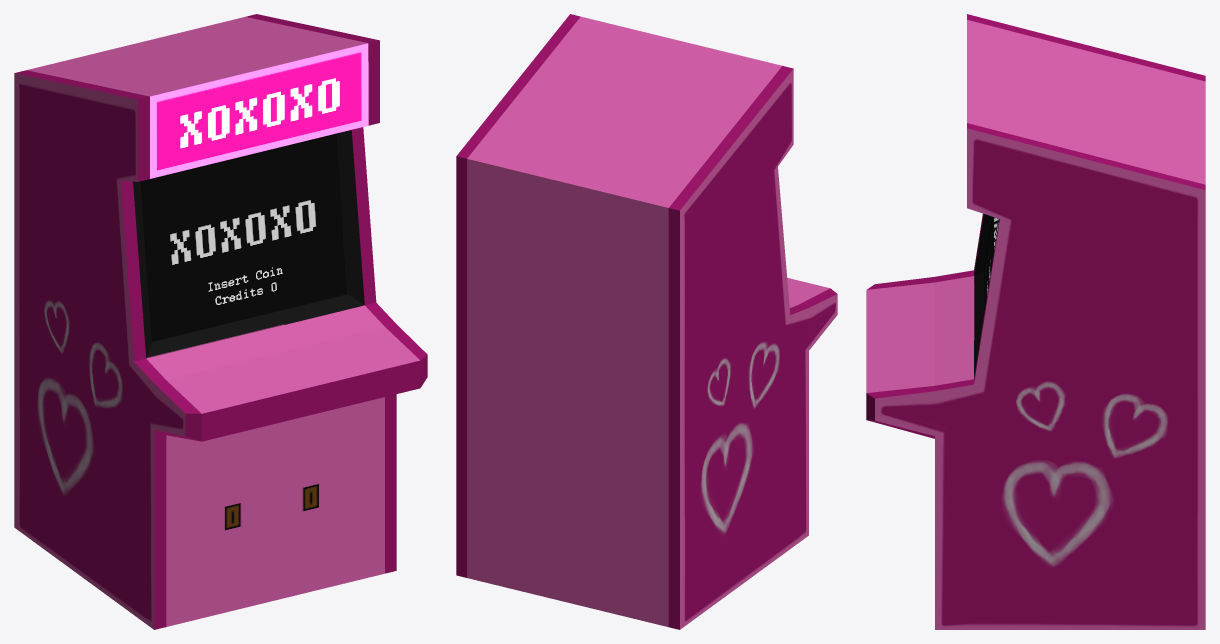
The model's file is cab_xoxoxo.glb.
3 views of the same model, side by side, from view 1: azimuth 30°, elevation 25°; view 2: azimuth 150°, elevation 25°; view 3: azimuth 270°, elevation 25° (orthographic). The views are drawn at different scales.
Visible parts, largest first — view 1: cabinet; view 2: cabinet; view 3: cabinet.
Boxes of the visible parts, left/top/right/bottom form: cabinet: left=14, top=14, right=427, bottom=629; cabinet: left=456, top=14, right=837, bottom=629; cabinet: left=866, top=14, right=1205, bottom=629.
Size of the model in its own units: 2 by 4.09 by 2.51.
Materials: 2 (2 with a texture image).
